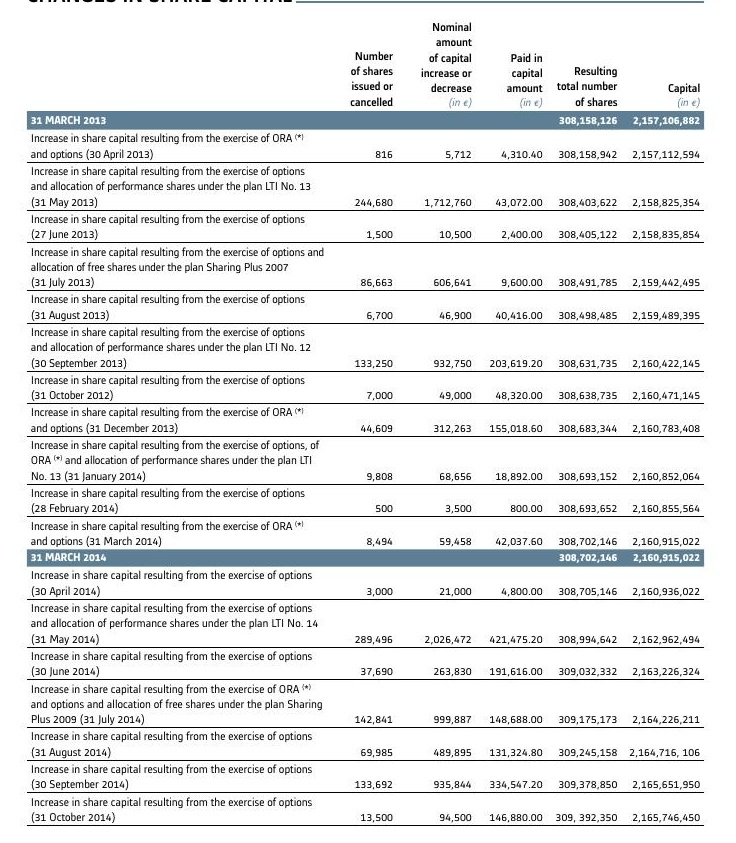table: (0, 0, 736, 843)
